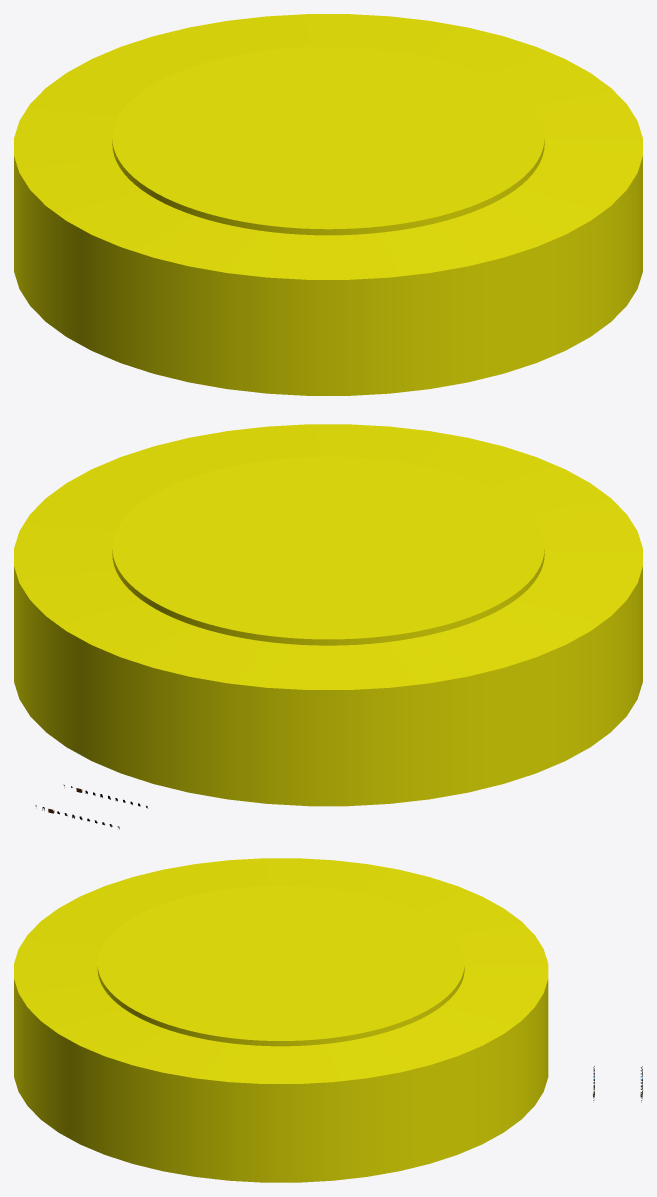
The model's file is arena.glb.
3 renders of one model, top to bottom at view 1: azimuth 30°, elevation 25°; view 2: azimuth 150°, elevation 25°; view 3: azimuth 270°, elevation 25°, orthographic. The views are drawn at different scales.
Visible parts, largest first — view 1: Side Walls, Roof, Roof Center; view 2: Side Walls, Roof, Roof Center; view 3: Side Walls, Roof, Roof Center.
Boxes of the visible parts, <box> form: Side Walls: <box>14,157,642,395</box>; Roof: <box>14,14,642,280</box>; Roof Center: <box>112,46,544,235</box>; Side Walls: <box>14,567,642,806</box>; Roof: <box>14,424,642,690</box>; Roof Center: <box>112,456,544,645</box>; Side Walls: <box>14,980,548,1182</box>; Roof: <box>14,858,548,1084</box>; Roof Center: <box>97,886,464,1046</box>.
Size of the model in its own units: 145 by 31.85 by 171.
